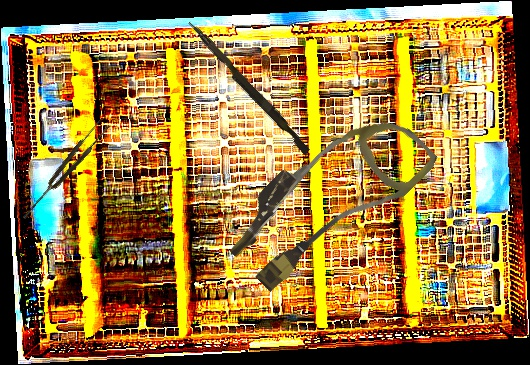Cannula: (215, 85, 441, 312)
Pusher: (182, 19, 314, 156)
Tissue Forceps: (17, 117, 112, 223)
